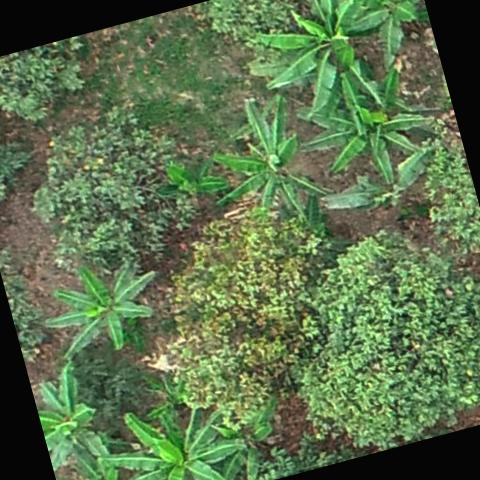Banana-plant: (199, 80, 325, 250), (294, 60, 442, 200), (30, 241, 178, 368), (310, 112, 452, 237), (92, 383, 258, 480), (238, 0, 376, 116), (26, 352, 110, 460), (146, 146, 236, 222), (334, 0, 436, 65), (128, 366, 204, 434), (51, 431, 154, 480)
